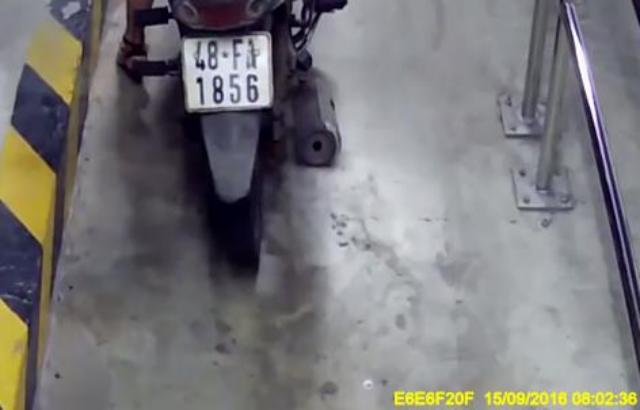plate: (172, 31, 280, 111)
